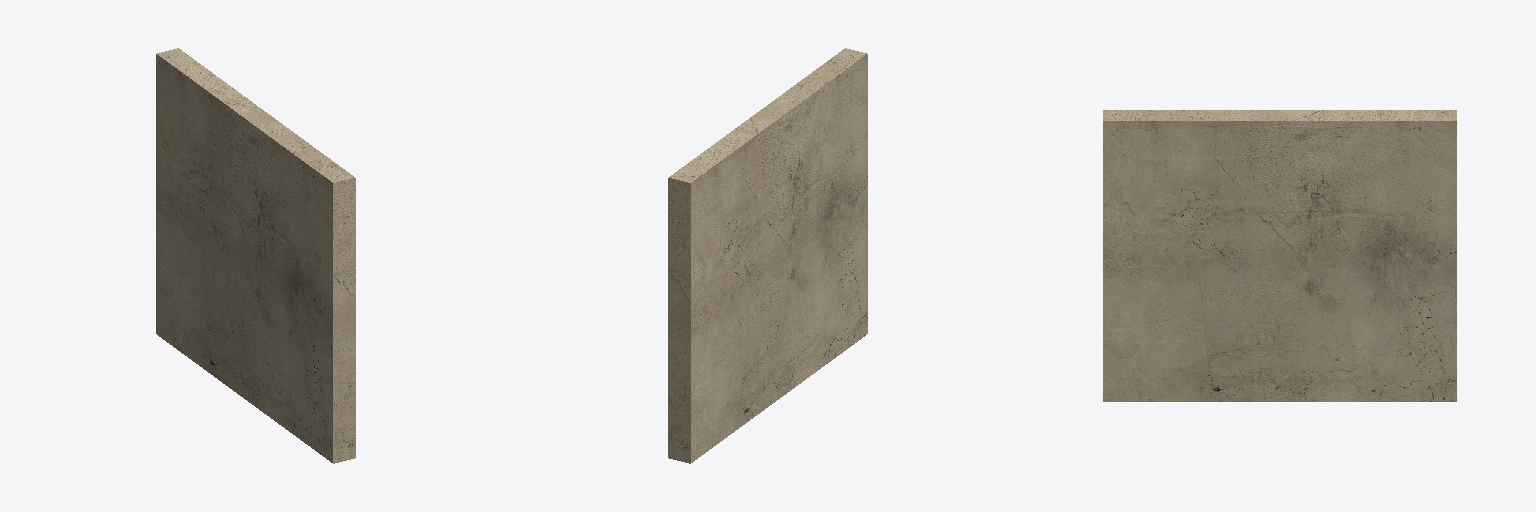
3 renders of one model, left to right at view 1: azimuth 30°, elevation 25°; view 2: azimuth 150°, elevation 25°; view 3: azimuth 270°, elevation 25°, orthographic.
Parts seen in each view (by area): view 1: Box02; view 2: Box02; view 3: Box02.
Boxes of the visible parts, box(x1,y1,x2,y2) form: Box02: box(156, 48, 355, 463); Box02: box(668, 48, 867, 463); Box02: box(1103, 110, 1456, 401).
Size of the model in its own units: 0.2933 by 3.5 by 4.
Materials: 1 (1 with a texture image).